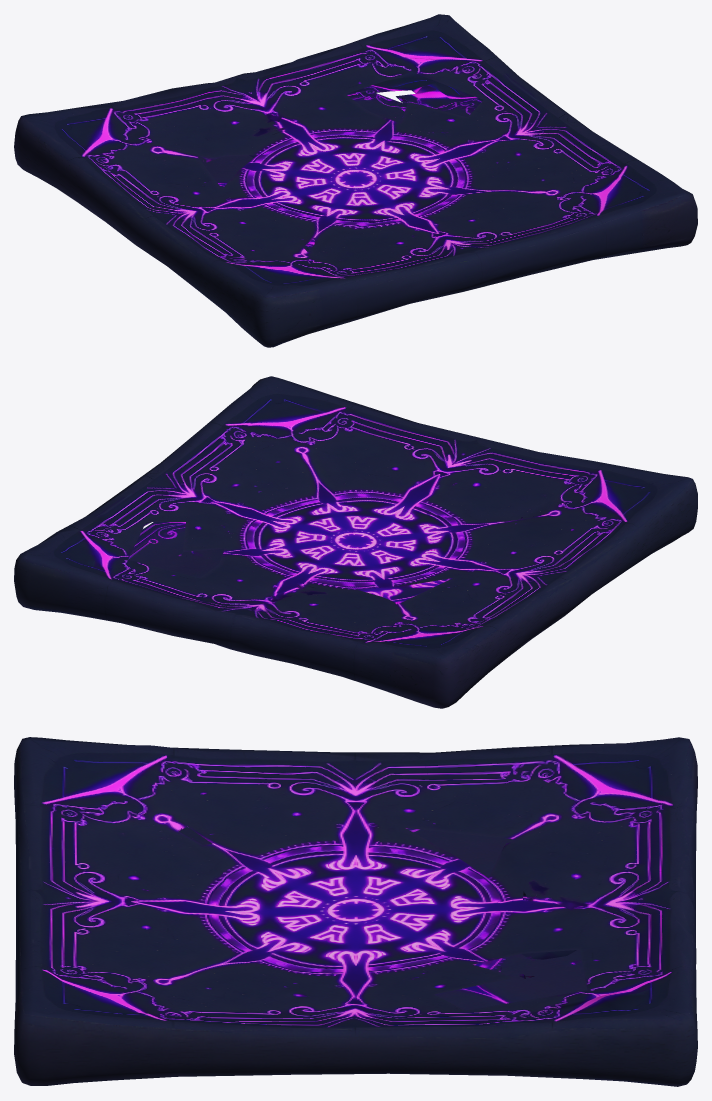
The model's file is floor_2.glb.
3 renders of one model, top to bottom at view 1: azimuth 30°, elevation 25°; view 2: azimuth 150°, elevation 25°; view 3: azimuth 270°, elevation 25°, orthographic. The views are drawn at different scales.
Bounding box in the file's own units: 1.91 × 0.2201 × 1.91.
1 material, 1 textured.
